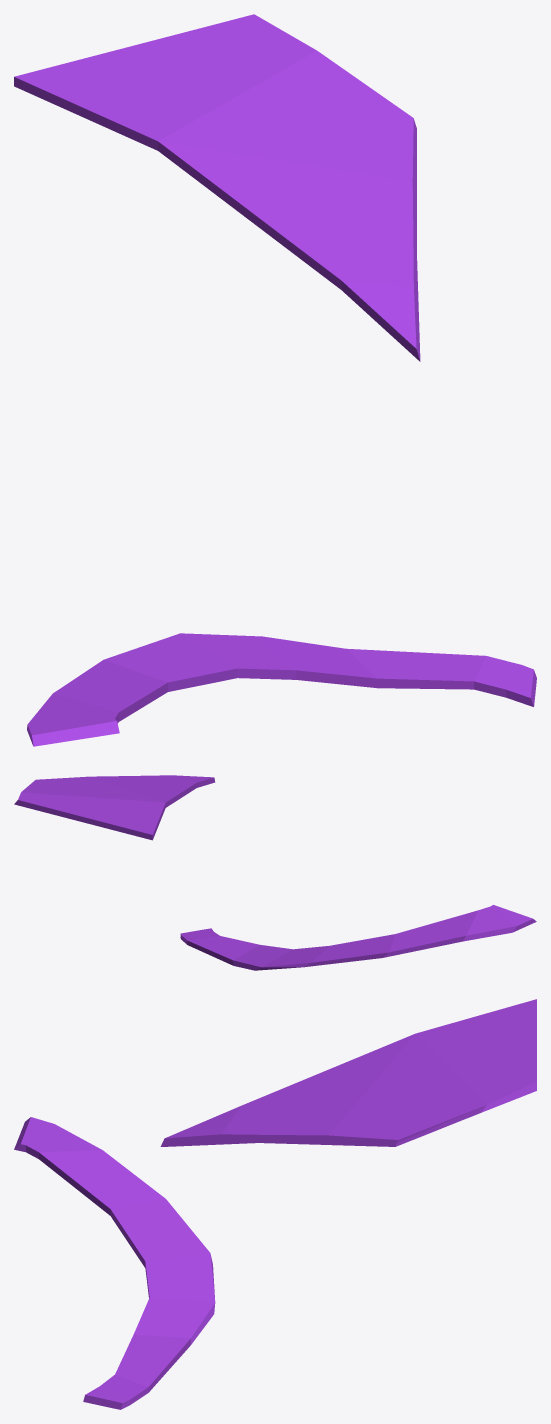
Rendered from Glass_100_0_chunks.fbx.
The picture shows the model from 3 angles, top to bottom: view 1: azimuth 30°, elevation 25°; view 2: azimuth 150°, elevation 25°; view 3: azimuth 270°, elevation 25°; orthographic projection. The views are drawn at different scales.
Visible parts, largest first — view 1: Glass_100_0_1, Glass_100_0_3, Glass_100_0_0, Glass_100_0_2; view 2: Glass_100_0_1, Glass_100_0_0, Glass_100_0_2, Glass_100_0_3; view 3: Glass_100_0_1, Glass_100_0_0, Glass_100_0_3, Glass_100_0_2.
Boxes of the visible parts, x1,y1,x2,y2 form: Glass_100_0_1: (14,14,416,226); Glass_100_0_3: (252,155,420,361); Glass_100_0_0: (27,633,267,746); Glass_100_0_2: (232,635,536,706); Glass_100_0_1: (14,778,182,840); Glass_100_0_0: (280,905,536,968); Glass_100_0_2: (180,928,309,970); Glass_100_0_3: (69,775,215,796); Glass_100_0_1: (326,999,536,1146); Glass_100_0_0: (14,1117,214,1284); Glass_100_0_3: (160,1070,358,1146); Glass_100_0_2: (83,1280,215,1409).
Size of the model in its own units: 2877 by 1967 by 2808.
